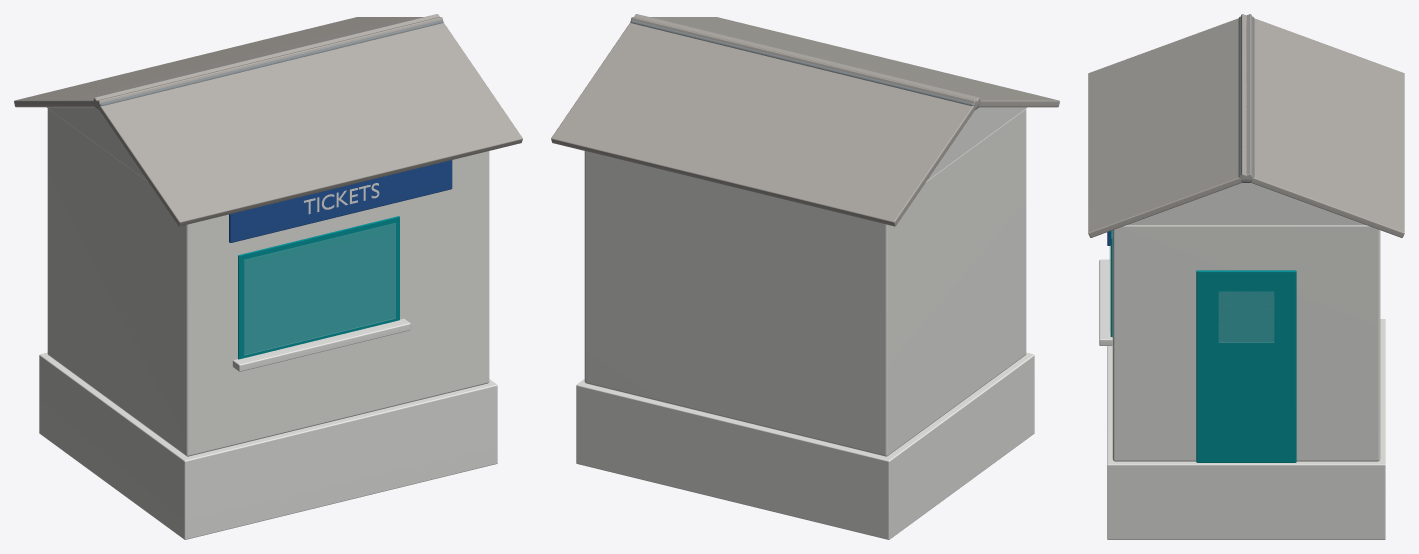
File: ferry_hut.glb
The picture shows the model from 3 angles, left to right: view 1: azimuth 30°, elevation 25°; view 2: azimuth 150°, elevation 25°; view 3: azimuth 270°, elevation 25°; orthographic projection. The views are drawn at different scales.
Visible parts, largest first — view 1: SM_ferry_hut; view 2: SM_ferry_hut; view 3: SM_ferry_hut.
Boxes of the visible parts, box(x1,y1,x2,y2) form: SM_ferry_hut: box(14, 14, 522, 539); SM_ferry_hut: box(551, 14, 1059, 539); SM_ferry_hut: box(1088, 14, 1404, 539).
Bounding box in the file's own units: 3.4 × 3.7 × 2.84.
